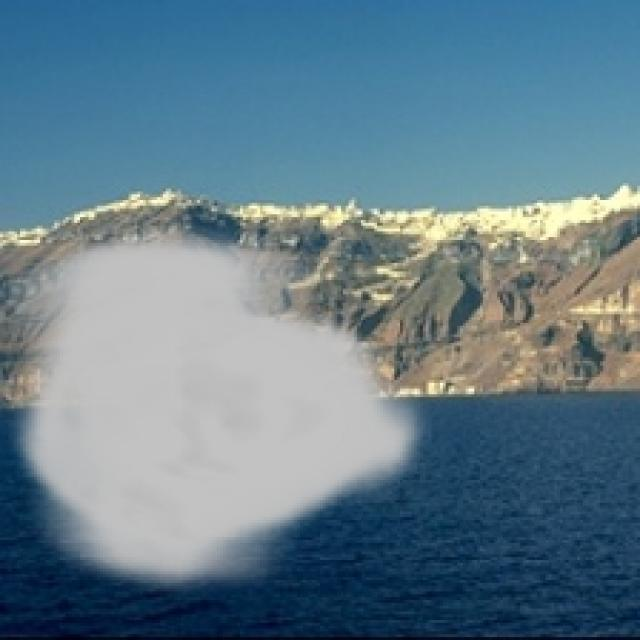Smoke: (9, 225, 432, 600)
